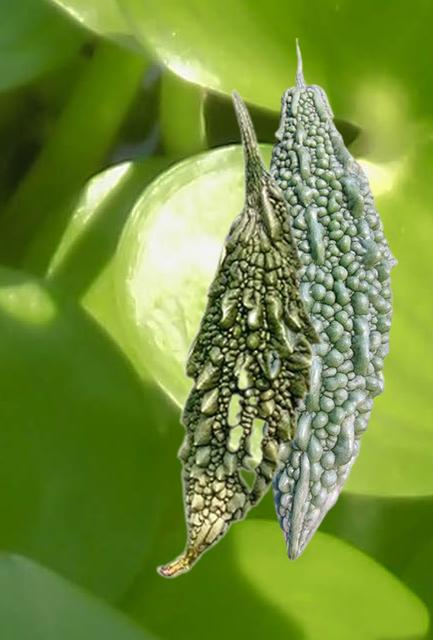ampalaya: (155, 87, 323, 577), (259, 38, 397, 560)
